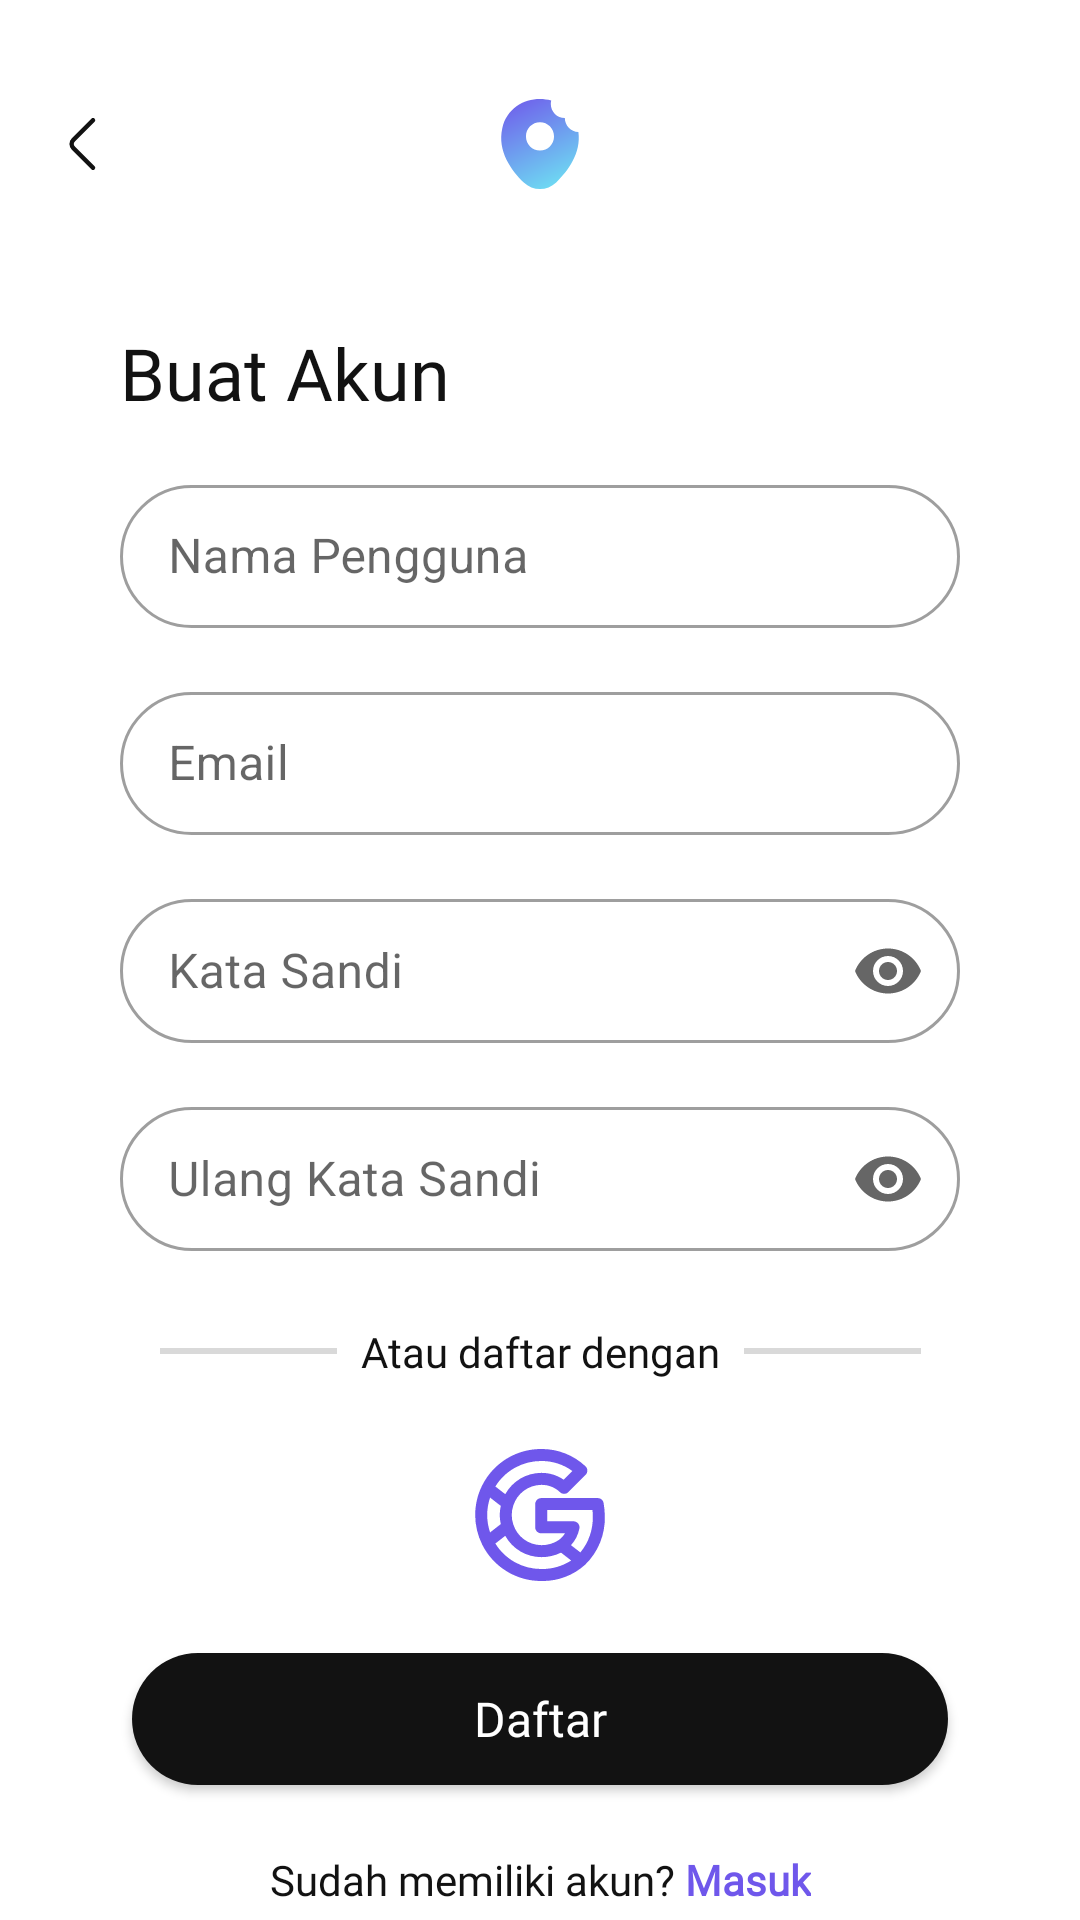

Icon click points for this 1080w x 1920h phone screenshot, format point (x, y):
arrow left: point (82, 144)
